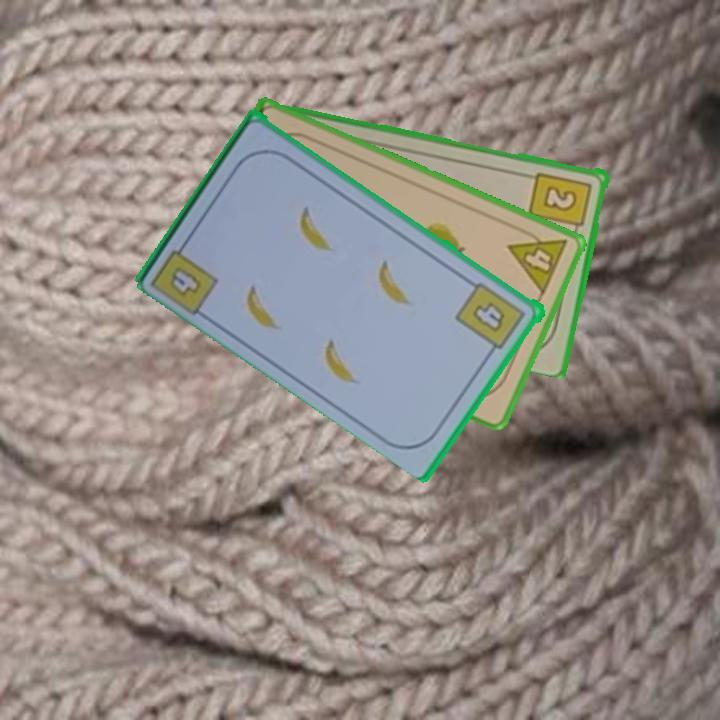2b: (526, 168, 595, 238)
4b: (148, 233, 223, 317), (452, 278, 529, 358)
4p: (504, 222, 570, 298)
